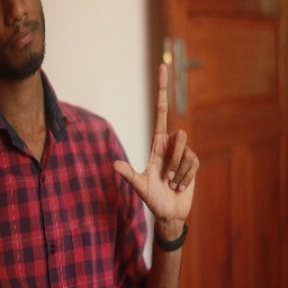L: (109, 63, 204, 227)
